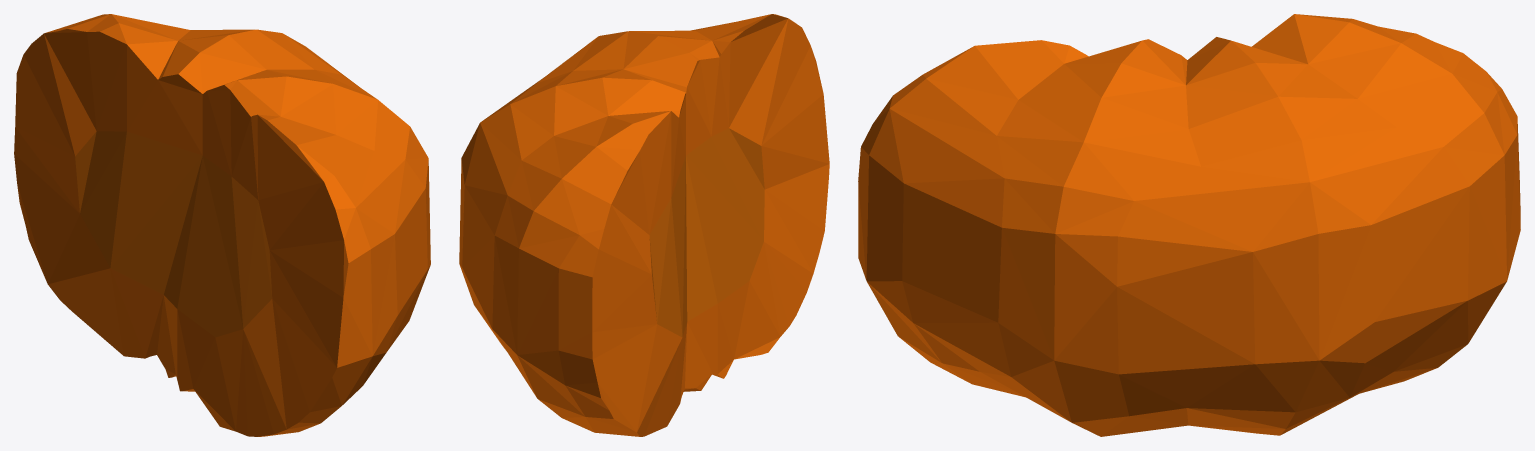
The model's file is Pumpkin_2.fbx.
3 renders of one model, left to right at view 1: azimuth 30°, elevation 25°; view 2: azimuth 150°, elevation 25°; view 3: azimuth 270°, elevation 25°, orthographic. The views are drawn at different scales.
Visible parts, largest first — view 1: Cylinder.021; view 2: Cylinder.021; view 3: Cylinder.021.
Part boxes in pixels (x1=…): Cylinder.021: x1=14, y1=14, x2=430, y2=436; Cylinder.021: x1=459, y1=14, x2=829, y2=436; Cylinder.021: x1=858, y1=14, x2=1520, y2=436.
Size of the model in its own units: 574 by 355 by 278.
